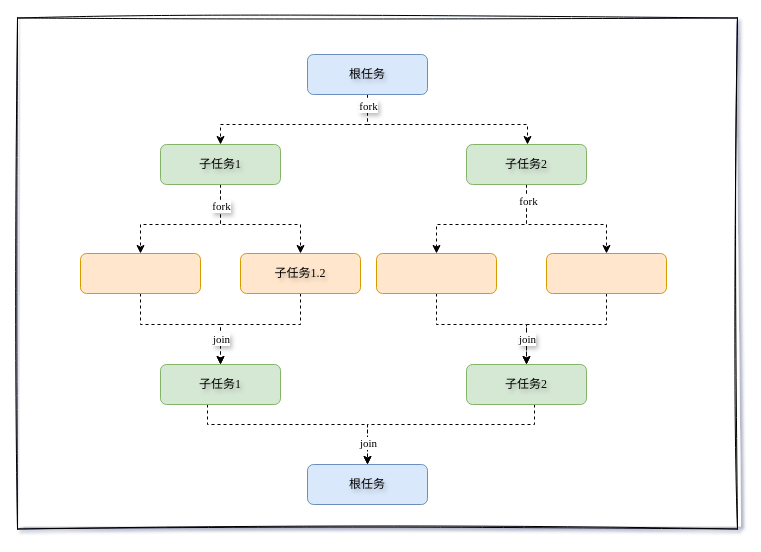
This 761x552 diagram has some shape labels left out. Here are the shapes that lost their labels. From the top down, the centre of each, then its label:
point 140,273: 子任务1.1
point 436,273: 子任务2.1
point 606,273: 子任务2.2
